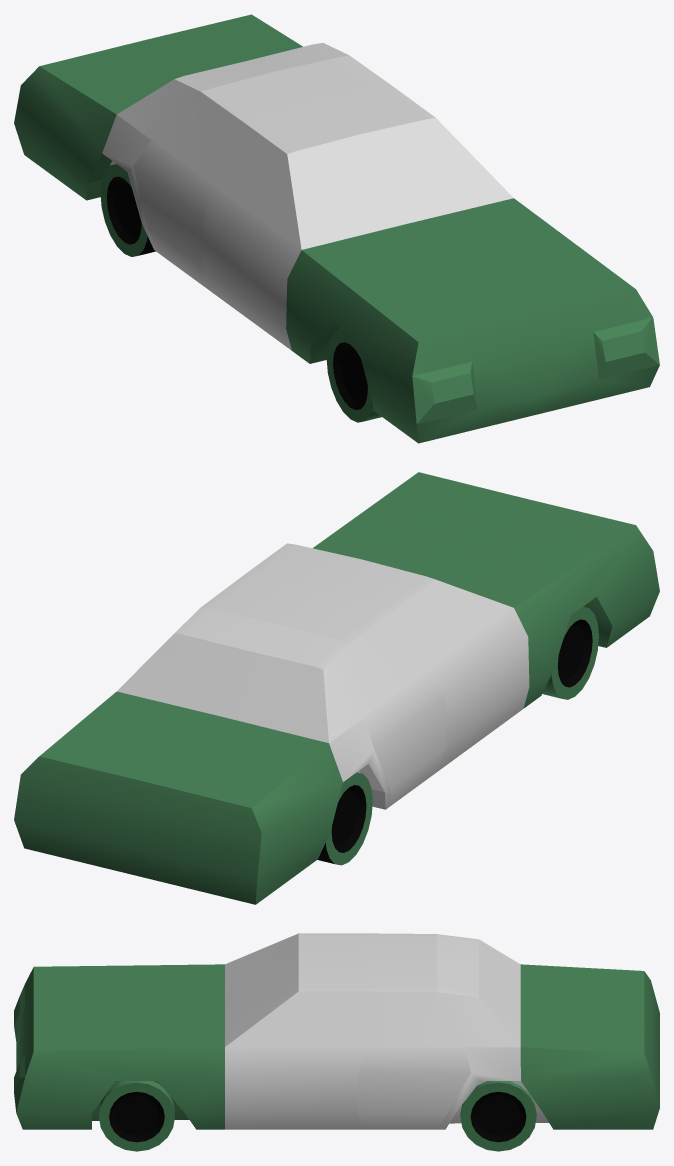
File: baseSedan.fbx
The picture shows the model from 3 angles, top to bottom: view 1: azimuth 30°, elevation 25°; view 2: azimuth 150°, elevation 25°; view 3: azimuth 270°, elevation 25°; orthographic projection. The views are drawn at different scales.
Parts seen in each view (by area): view 1: carBody2; view 2: carBody2; view 3: carBody2.
Boxes of the visible parts, x1=… form: carBody2: x1=14, y1=14, x2=659, y2=443; carBody2: x1=14, y1=472, x2=659, y2=904; carBody2: x1=14, y1=933, x2=659, y2=1151.
Size of the model in its own units: 5.42 by 3.91 by 15.58.
